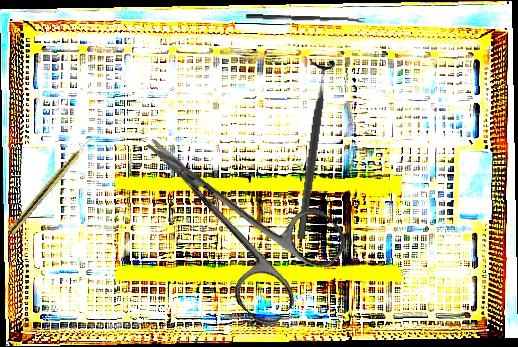Fixation Ring: (286, 58, 338, 241)
Handpiece: (7, 133, 96, 237)
Iris Scissors: (110, 93, 354, 332)
Surgical Spoon: (245, 13, 366, 24)
